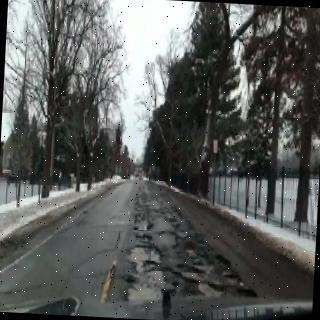pothole: (128, 246, 229, 300), (174, 232, 215, 269), (133, 206, 180, 236), (159, 221, 186, 240), (178, 261, 206, 275), (237, 287, 258, 300), (217, 254, 229, 269), (136, 233, 152, 243), (226, 273, 239, 284)
